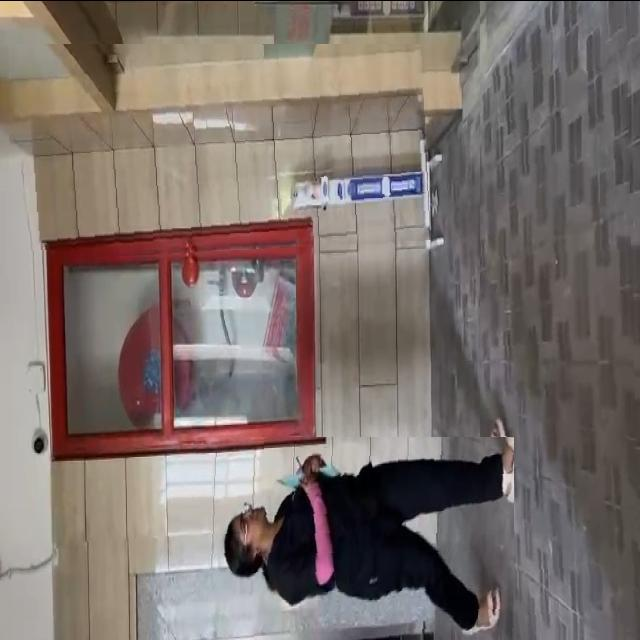floor: (480, 0, 640, 640)
moving_object: (186, 436, 514, 640)
wall: (9, 43, 431, 261)
